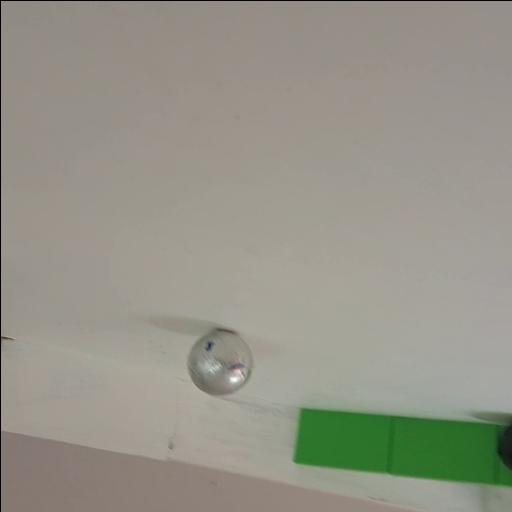alive: (184, 326, 256, 398)
dead: (496, 422, 512, 472)
